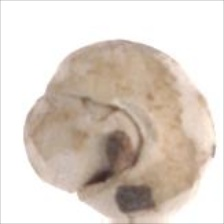L3: (79, 99, 154, 186)
L4: (23, 38, 217, 219)
